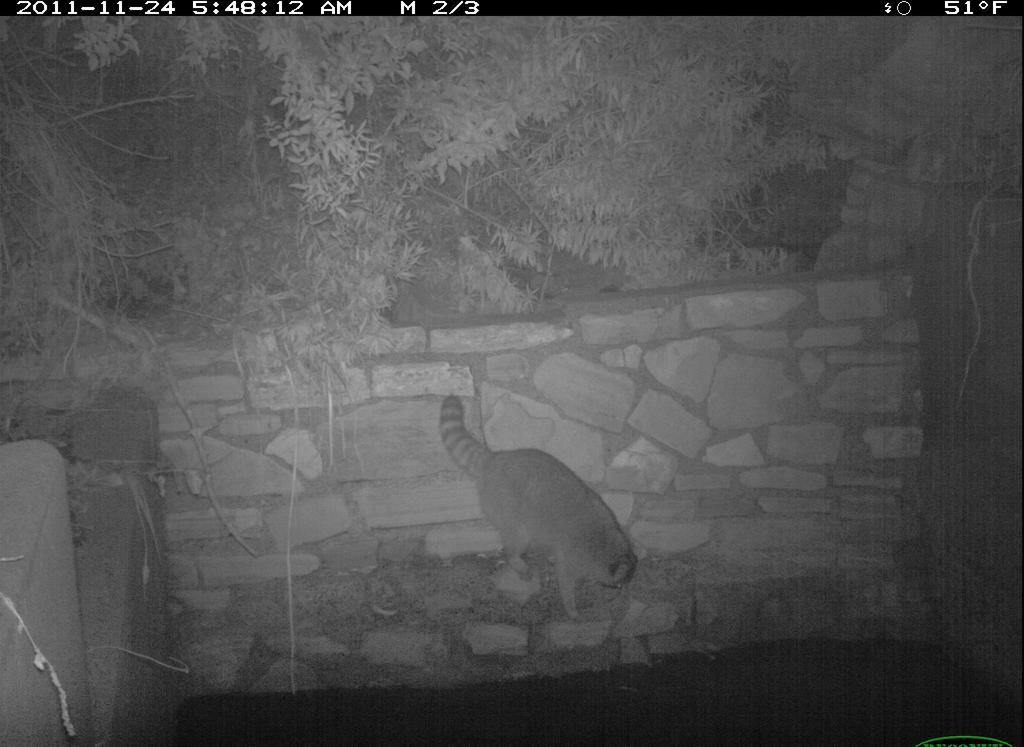raccoon: (429, 387, 643, 626)
